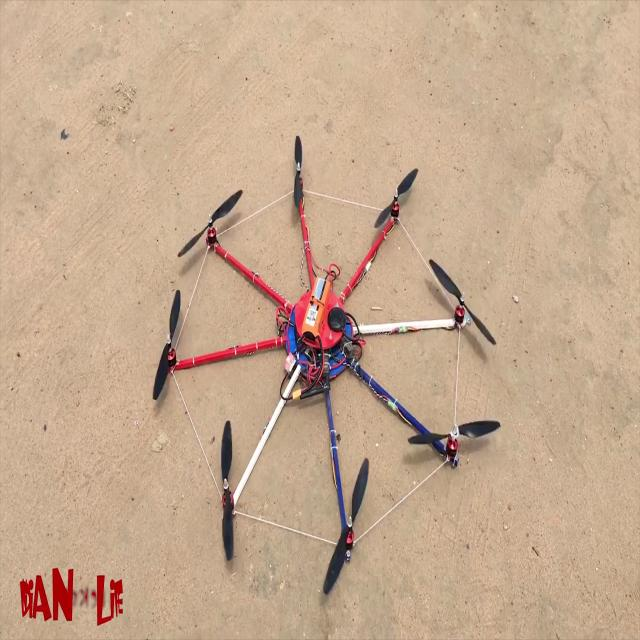drone: (138, 147, 509, 640)
